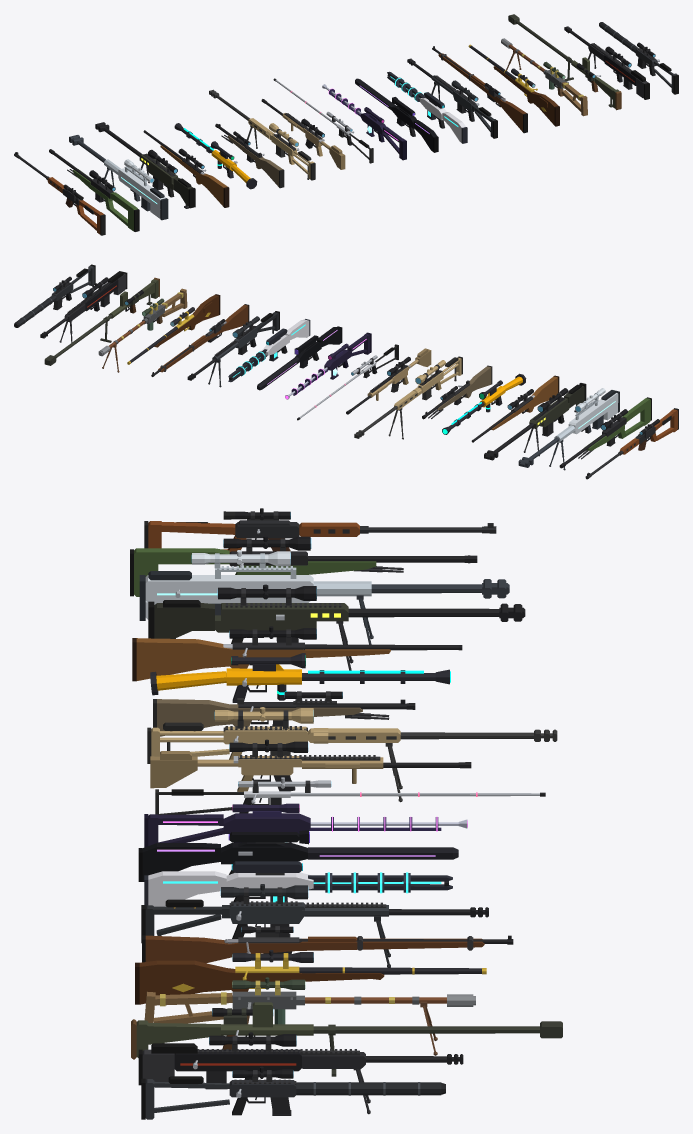
The model's file is AllSnipers.fbx.
3 renders of one model, top to bottom at view 1: azimuth 30°, elevation 25°; view 2: azimuth 150°, elevation 25°; view 3: azimuth 270°, elevation 25°, orthographic. The views are drawn at different scales.
Parts seen in each view (by area): view 1: Frostbite_Stock, Relic_Stock, Hawkeye_Stock, Royal_Stock, Glacier_Body, Kestrel_Stock, Goliath_Body, Scrapper_Stock, Cobra_Stock, Phantom_Stock; view 2: Frostbite_Stock, Relic_Stock, Glacier_Body, Royal_Stock, Hawkeye_Stock, Kestrel_Stock, Goliath_Body, Cobra_Stock, Scrapper_Stock, Viper_Body, Phantom_Stock, Phantom_Handguard (+1 smaller); view 3: Relic_Stock, Hawkeye_Stock, Royal_Stock, Glacier_Body, Goliath_Body, Frostbite_Stock, Kestrel_Stock, Viper_Body, Pulse_Stock, Phantom_Stock, Whisper_Barrel, Phantom_Handguard (+40 smaller).
Part boxes in pixels (x1,y1,x2,y2): Frostbite_Stock: (73, 169, 137, 231); Relic_Stock: (438, 53, 526, 131); Hawkeye_Stock: (160, 145, 227, 206); Royal_Stock: (493, 66, 558, 125); Glacier_Body: (118, 168, 165, 209); Kestrel_Stock: (228, 135, 282, 186); Goliath_Body: (139, 153, 177, 189); Scrapper_Stock: (561, 82, 587, 116); Cobra_Stock: (76, 200, 103, 234); Phantom_Stock: (413, 120, 436, 151); Frostbite_Stock: (584, 398, 650, 450); Relic_Stock: (158, 304, 248, 372); Glacier_Body: (568, 393, 618, 434); Royal_Stock: (154, 295, 218, 347); Hawkeye_Stock: (489, 376, 557, 430); Kestrel_Stock: (435, 366, 491, 409); Goliath_Body: (529, 397, 569, 428); Cobra_Stock: (649, 409, 677, 441); Scrapper_Stock: (161, 288, 187, 316); Viper_Body: (81, 279, 118, 311); Phantom_Stock: (317, 327, 341, 346); Phantom_Handguard: (258, 357, 299, 388); Relic_Stock: (145, 935, 484, 963); Hawkeye_Stock: (136, 638, 390, 680); Royal_Stock: (139, 960, 384, 1004); Glacier_Body: (145, 575, 313, 603); Goliath_Body: (215, 603, 348, 632); Frostbite_Stock: (134, 548, 376, 596); Kestrel_Stock: (157, 699, 362, 736); Viper_Body: (174, 1049, 301, 1071); Pulse_Stock: (148, 871, 226, 906); Phantom_Stock: (142, 843, 220, 881); Whisper_Barrel: (296, 1082, 441, 1095); Phantom_Handguard: (308, 847, 452, 859).
Bounding box in the file's own units: 23.21 × 1.85 × 7.47.
